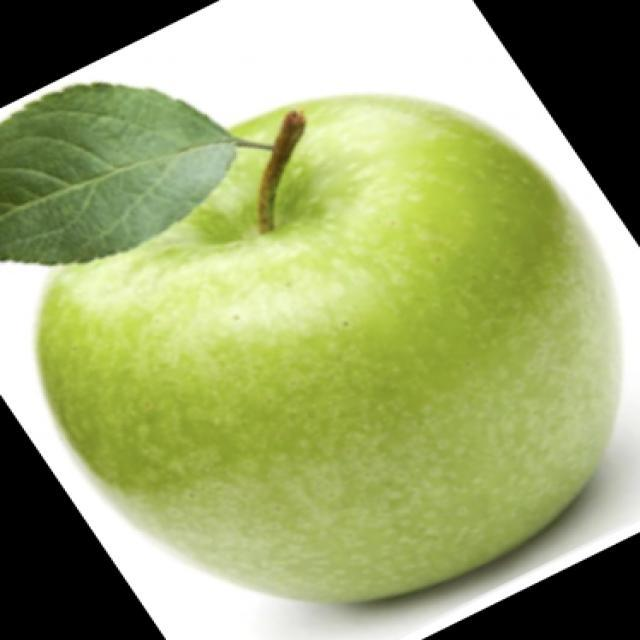Fresh Apple: (72, 75, 630, 598)
